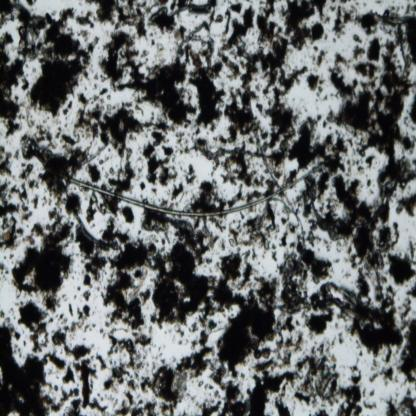Background material: (224, 4, 308, 158), (325, 64, 416, 204), (15, 0, 100, 118), (97, 29, 196, 125), (209, 253, 278, 384), (307, 269, 402, 360), (0, 311, 65, 415), (154, 221, 216, 327), (318, 171, 385, 267), (175, 19, 227, 128), (15, 124, 88, 201), (105, 222, 154, 331), (11, 209, 73, 295), (276, 220, 330, 312), (74, 92, 144, 160), (208, 372, 296, 414), (153, 346, 210, 403), (357, 10, 416, 65), (0, 31, 29, 133), (107, 328, 152, 392), (293, 342, 338, 404), (226, 209, 279, 260), (92, 0, 176, 32), (281, 0, 327, 49), (140, 128, 178, 187), (379, 224, 416, 284), (288, 113, 329, 166), (74, 220, 106, 287), (76, 356, 108, 414), (218, 148, 264, 187), (398, 286, 416, 385), (20, 298, 52, 353), (278, 310, 304, 370), (336, 364, 365, 415), (183, 179, 225, 213), (86, 193, 135, 222), (0, 181, 33, 220), (52, 329, 92, 359), (176, 0, 223, 24), (384, 384, 416, 415), (106, 160, 136, 192), (324, 133, 346, 175), (114, 393, 154, 416), (332, 3, 356, 41), (305, 308, 334, 338), (368, 360, 399, 385), (66, 305, 92, 333), (104, 363, 126, 391), (221, 2, 244, 28), (396, 189, 416, 217), (20, 162, 38, 190), (74, 8, 94, 31), (0, 145, 13, 179), (42, 293, 63, 314), (307, 74, 325, 98), (199, 321, 216, 345), (144, 117, 173, 131), (174, 131, 189, 156), (353, 35, 367, 60), (169, 179, 185, 200), (87, 162, 103, 182), (61, 364, 76, 384), (185, 164, 198, 187), (158, 402, 178, 416), (313, 48, 327, 68), (333, 51, 350, 67), (66, 398, 82, 414), (62, 386, 80, 400), (94, 353, 107, 372), (245, 188, 264, 201), (227, 192, 244, 206), (213, 132, 228, 146), (310, 406, 330, 415), (12, 224, 27, 236), (0, 262, 10, 280), (23, 235, 37, 246), (82, 289, 92, 304), (138, 178, 147, 192), (31, 194, 39, 209), (364, 401, 377, 410), (13, 148, 20, 162), (67, 302, 73, 316)
Cellulose filter fibre: (195, 144, 278, 161)
Diatom: (3, 1, 15, 16), (404, 395, 414, 410), (1, 229, 11, 242)
Hair textile: (63, 174, 320, 220)
